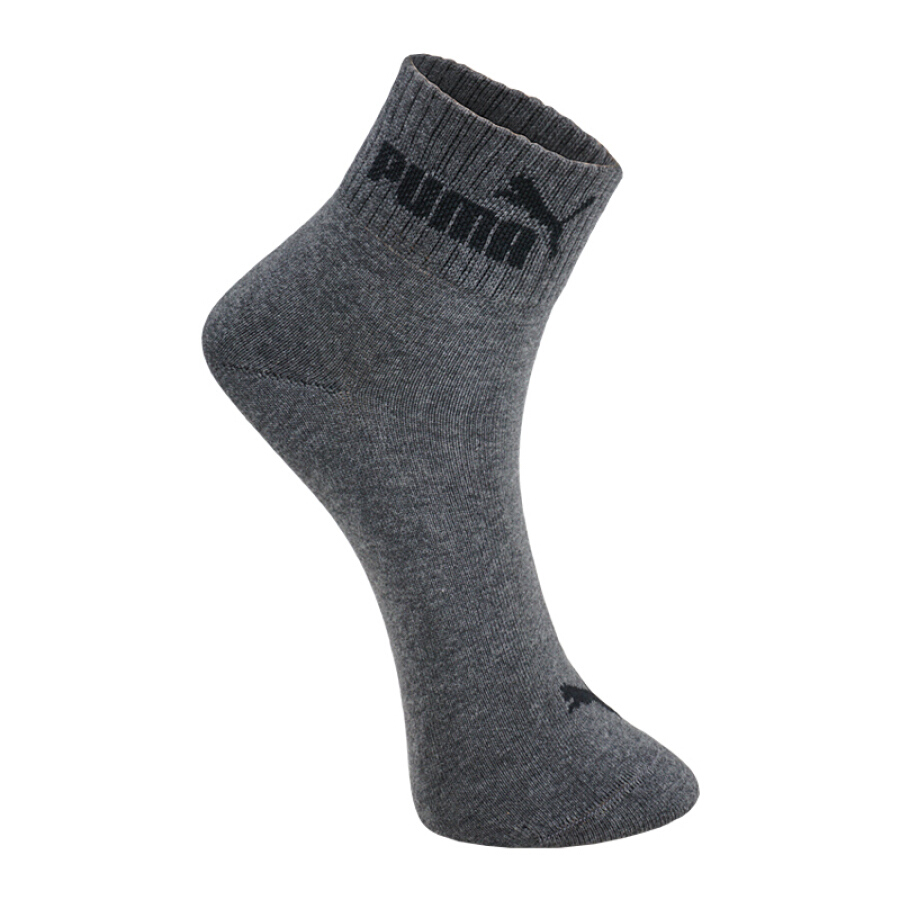Puma: (367, 130, 603, 278)
